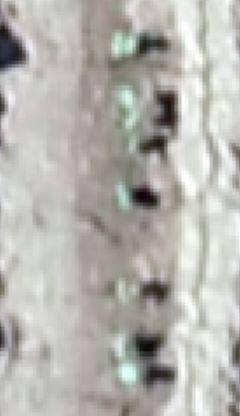cotton: (113, 33, 133, 54), (121, 362, 141, 383), (116, 185, 132, 209), (116, 89, 135, 107)
